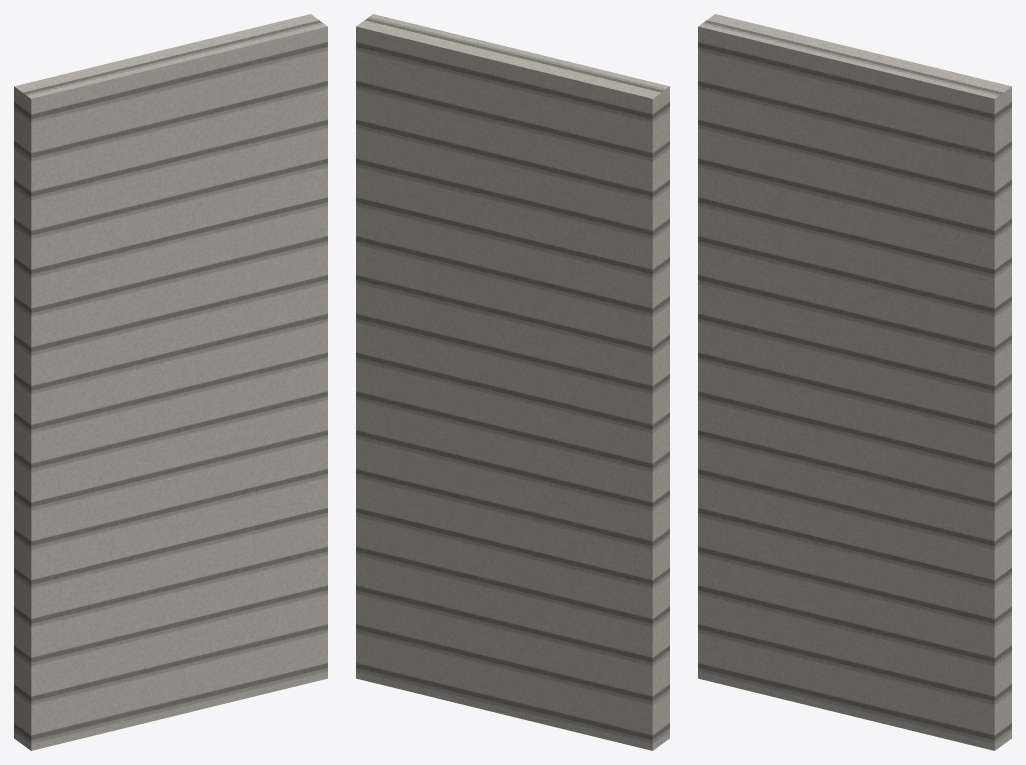
The model's file is barred_cell_door.glb.
The picture shows the model from 3 angles, left to right: view 1: azimuth 30°, elevation 25°; view 2: azimuth 150°, elevation 25°; view 3: azimuth 330°, elevation 25°; orthographic projection.
Parts seen in each view (by area): view 1: barred_cell_door-col; view 2: barred_cell_door-col; view 3: barred_cell_door-col.
Part boxes in pixels (x1,y1,x2,y2): barred_cell_door-col: [14, 14, 327, 750]; barred_cell_door-col: [356, 14, 669, 750]; barred_cell_door-col: [698, 14, 1011, 750].
Size of the model in its own units: 1 by 2.1 by 0.1.
1 material, 1 textured.
